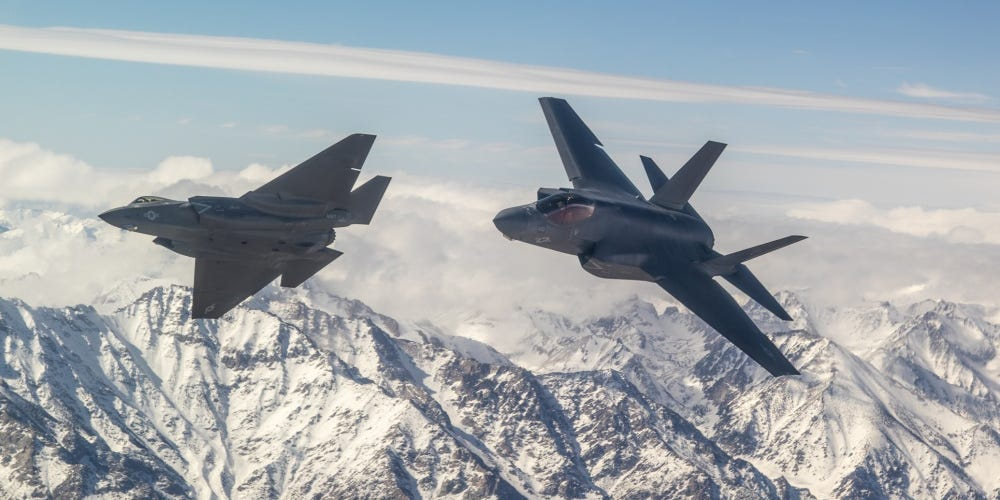F-35 Lightning: (467, 58, 830, 402), (80, 82, 406, 387)
